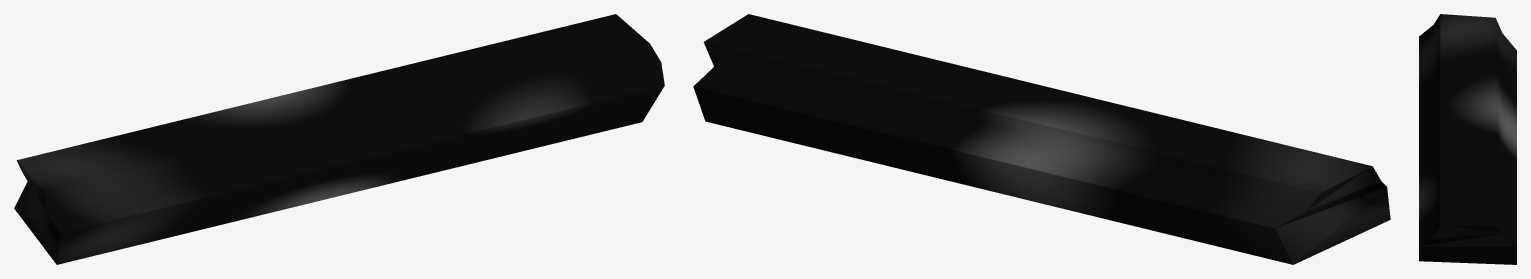
The model's file is Brokenbanister.fbx.
The picture shows the model from 3 angles, left to right: view 1: azimuth 30°, elevation 25°; view 2: azimuth 150°, elevation 25°; view 3: azimuth 270°, elevation 25°; orthographic projection. The views are drawn at different scales.
Parts seen in each view (by area): view 1: Brokenbanister; view 2: Brokenbanister; view 3: Brokenbanister.
Boxes of the visible parts, x1=… form: Brokenbanister: x1=14, y1=14, x2=664, y2=264; Brokenbanister: x1=693, y1=14, x2=1390, y2=264; Brokenbanister: x1=1419, y1=14, x2=1516, y2=264.
Bounding box in the file's own units: 2.49 × 0.2401 × 0.4801.
